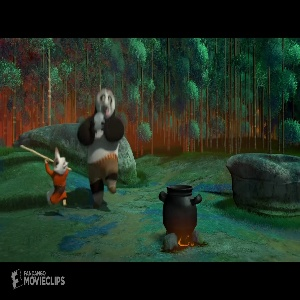po: (76, 86, 127, 213)
shifu: (41, 146, 70, 209)
